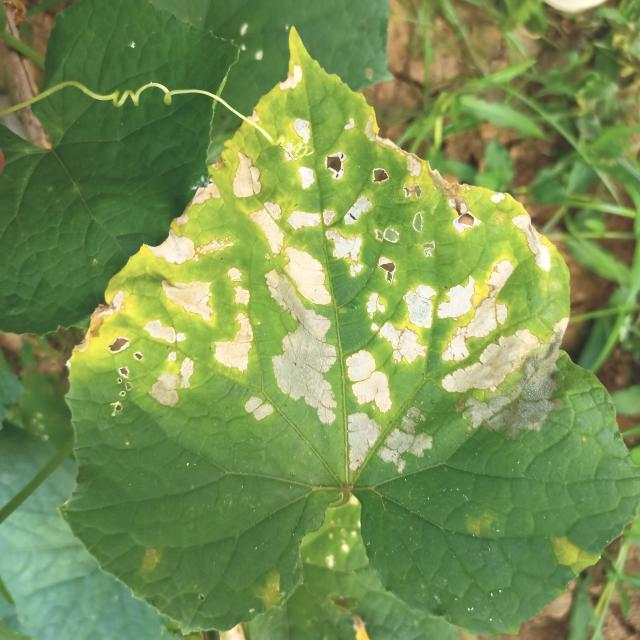disease_cucumber: (78, 68, 577, 480), (542, 526, 612, 583)
